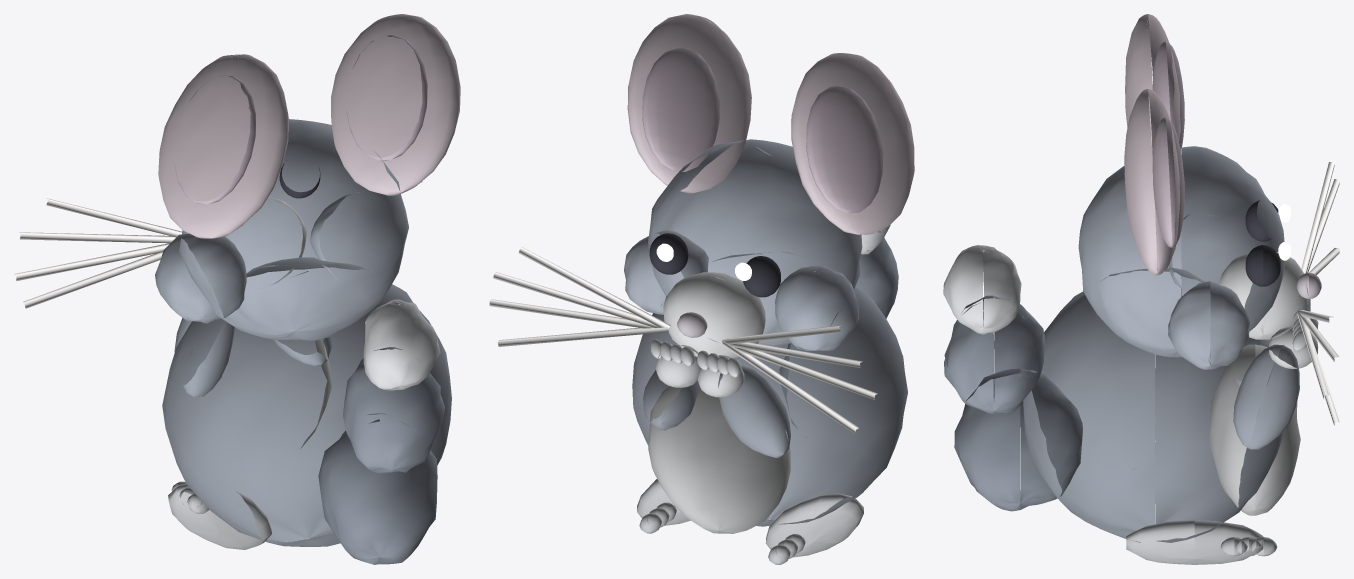
Rendered from pet_chinchilla_sapphire.glb.
3 renders of one model, left to right at view 1: azimuth 30°, elevation 25°; view 2: azimuth 150°, elevation 25°; view 3: azimuth 270°, elevation 25°, orthographic. The views are drawn at different scales.
Visible parts, largest first — view 1: chinchilla; view 2: chinchilla; view 3: chinchilla.
Part boxes in pixels (x1,y1,x2,y2): chinchilla: [14, 14, 460, 564]; chinchilla: [489, 14, 914, 564]; chinchilla: [943, 14, 1339, 564].
Bounding box in the file's own units: 0.8416 × 1 × 0.7516.
